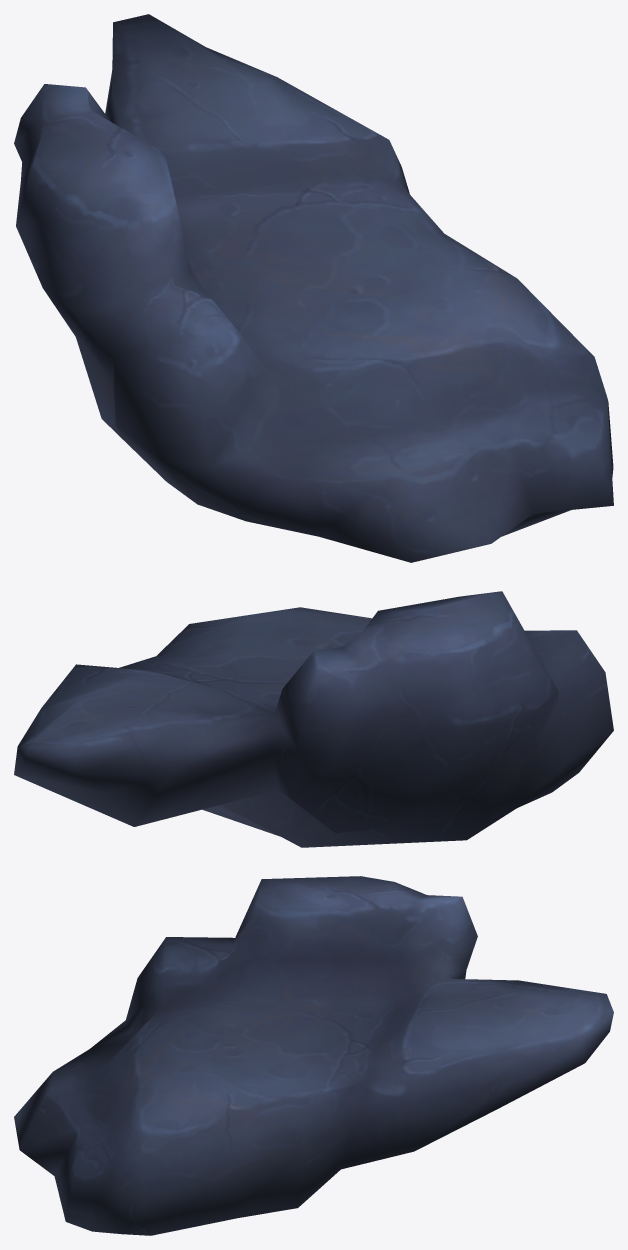
The model's file is lm_rock_09.fbx.
The picture shows the model from 3 angles, top to bottom: view 1: azimuth 30°, elevation 25°; view 2: azimuth 150°, elevation 25°; view 3: azimuth 270°, elevation 25°; orthographic projection. The views are drawn at different scales.
Visible parts, largest first — view 1: lm_rock_09; view 2: lm_rock_09; view 3: lm_rock_09.
Part boxes in pixels (x1=…): lm_rock_09: x1=14, y1=14, x2=613, y2=562; lm_rock_09: x1=14, y1=591, x2=613, y2=847; lm_rock_09: x1=14, y1=876, x2=613, y2=1235.
Bounding box in the file's own units: 2.17 × 1.46 × 3.33.
